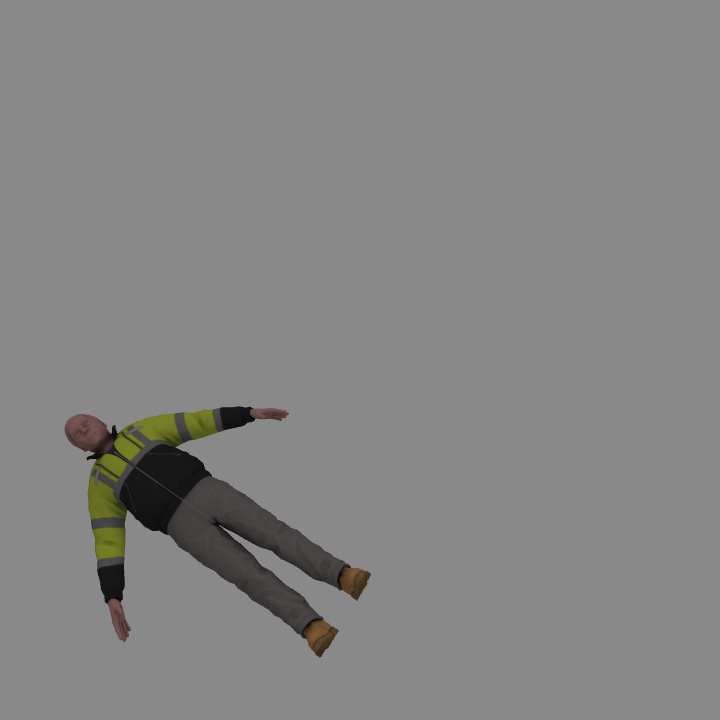victim: (60, 407, 370, 649)
